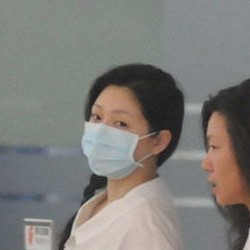mask: (79, 90, 148, 185)
